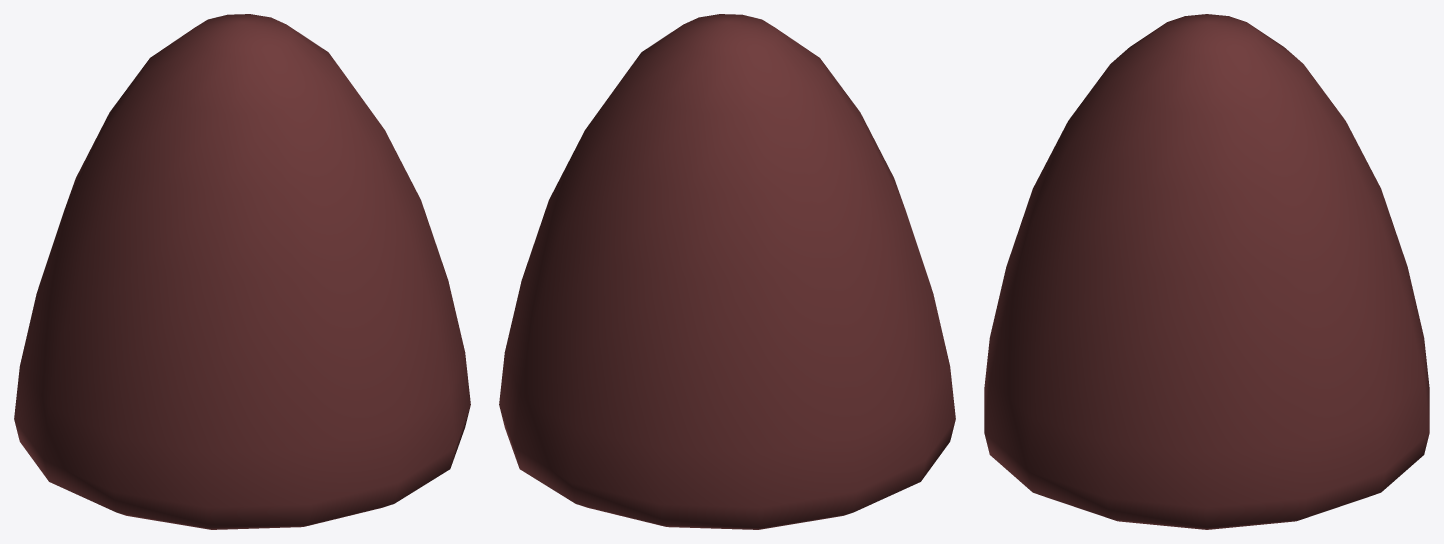
File: calleTocon.fbx
3 views of the same model, side by side, from view 1: azimuth 30°, elevation 25°; view 2: azimuth 150°, elevation 25°; view 3: azimuth 270°, elevation 25° (orthographic).
Parts seen in each view (by area): view 1: Tocon; view 2: Tocon; view 3: Tocon.
Part boxes in pixels (x1,y1,x2,y2): Tocon: (14,14,470,529); Tocon: (499,14,955,529); Tocon: (984,14,1429,529).
Bounding box in the file's own units: 0.00576 × 0.0062 × 0.00561.
